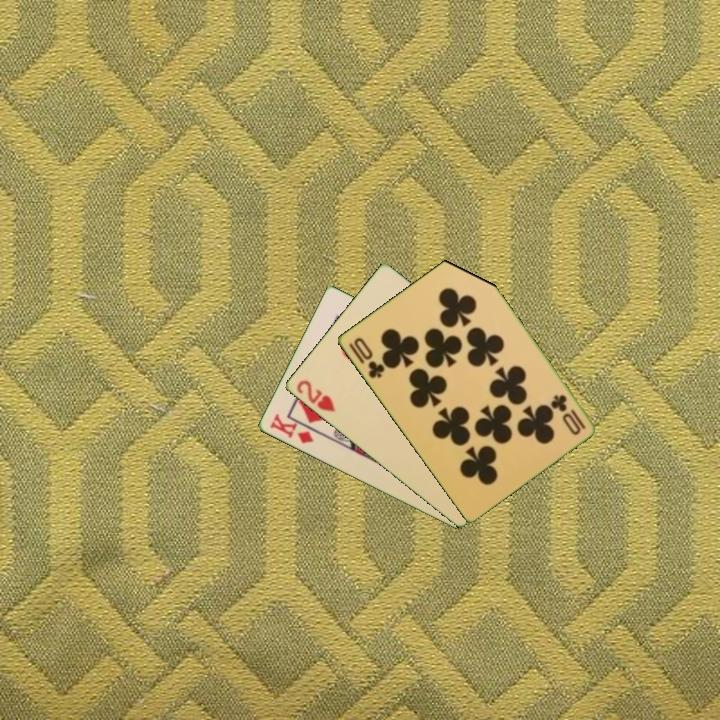10c: (345, 334, 387, 381), (547, 391, 588, 438)
2h: (292, 376, 338, 415)
Kd: (266, 410, 316, 447)
